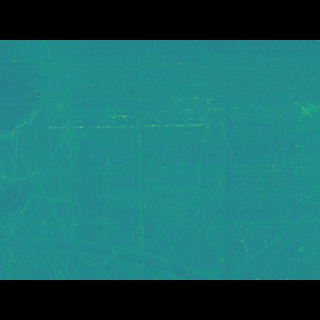Loch: (0, 109, 320, 252)
